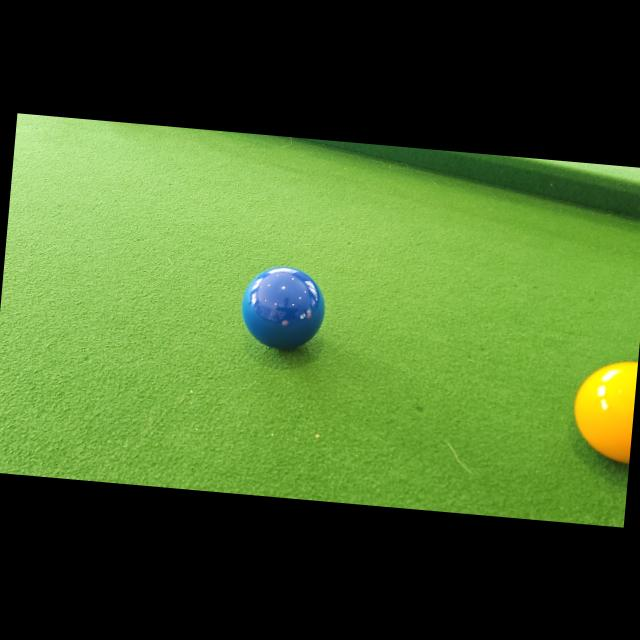Ball: (236, 262, 330, 353), (568, 356, 638, 464)
